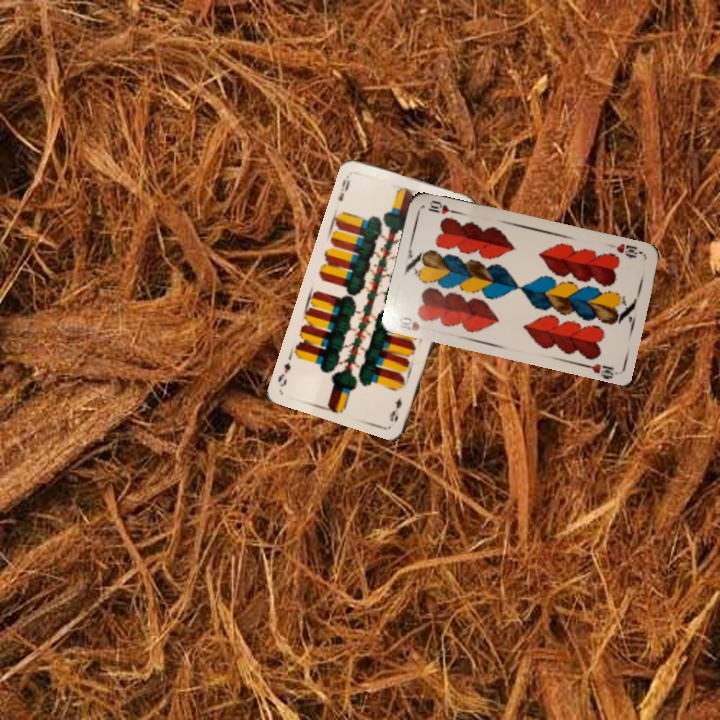E9: (334, 170, 354, 204), (386, 393, 405, 424)
H10: (605, 239, 645, 261), (394, 312, 423, 334)
